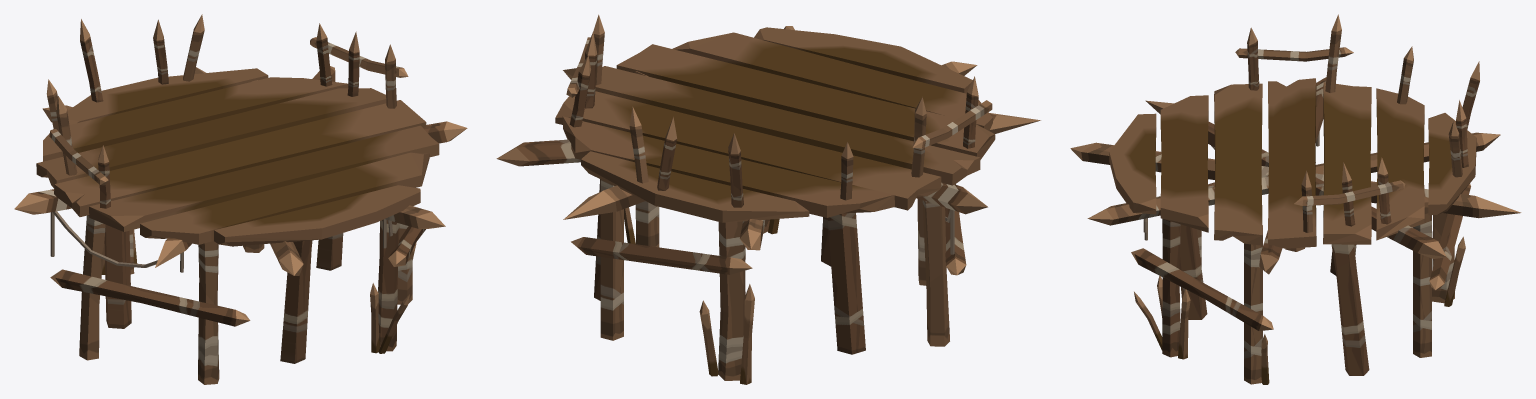
File: bog_platform_b.gltf
3 views of the same model, side by side, from view 1: azimuth 30°, elevation 25°; view 2: azimuth 150°, elevation 25°; view 3: azimuth 270°, elevation 25° (orthographic). The views are drawn at different scales.
Parts seen in each view (by area): view 1: bog_platform_b; view 2: bog_platform_b; view 3: bog_platform_b.
Boxes of the visible parts, bbox=[...] form: bog_platform_b: bbox=[14, 14, 467, 384]; bog_platform_b: bbox=[496, 14, 1040, 384]; bog_platform_b: bbox=[1070, 14, 1521, 384].
Size of the model in its own units: 7.8 by 4.33 by 7.7.
Materials: 1 (1 with a texture image).
